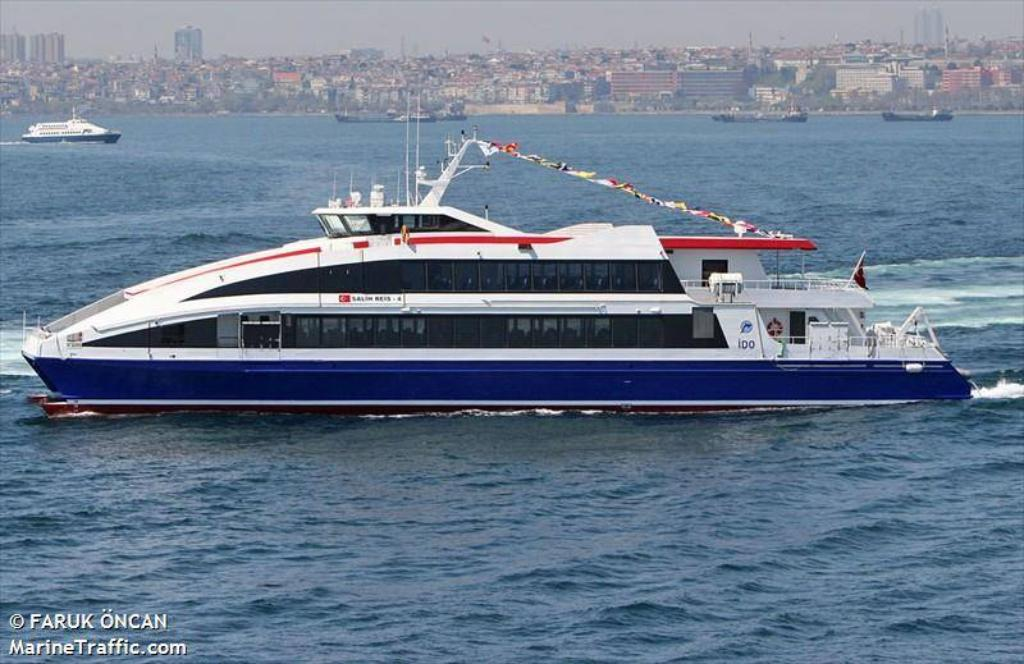PassengerShip: (16, 147, 978, 420), (18, 106, 128, 152)
